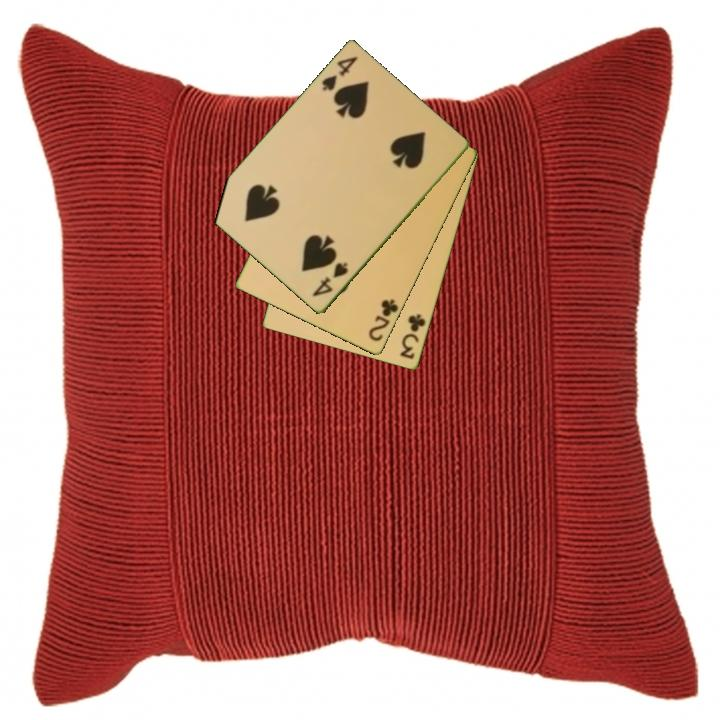2c: (365, 296, 401, 345)
3c: (396, 311, 429, 362)
4s: (318, 53, 361, 94), (309, 259, 351, 300)
